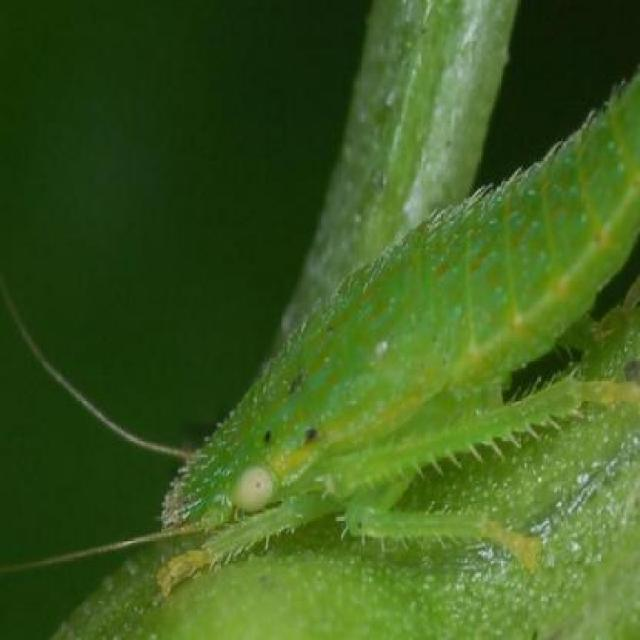green-leafhopper: (83, 77, 640, 594)
